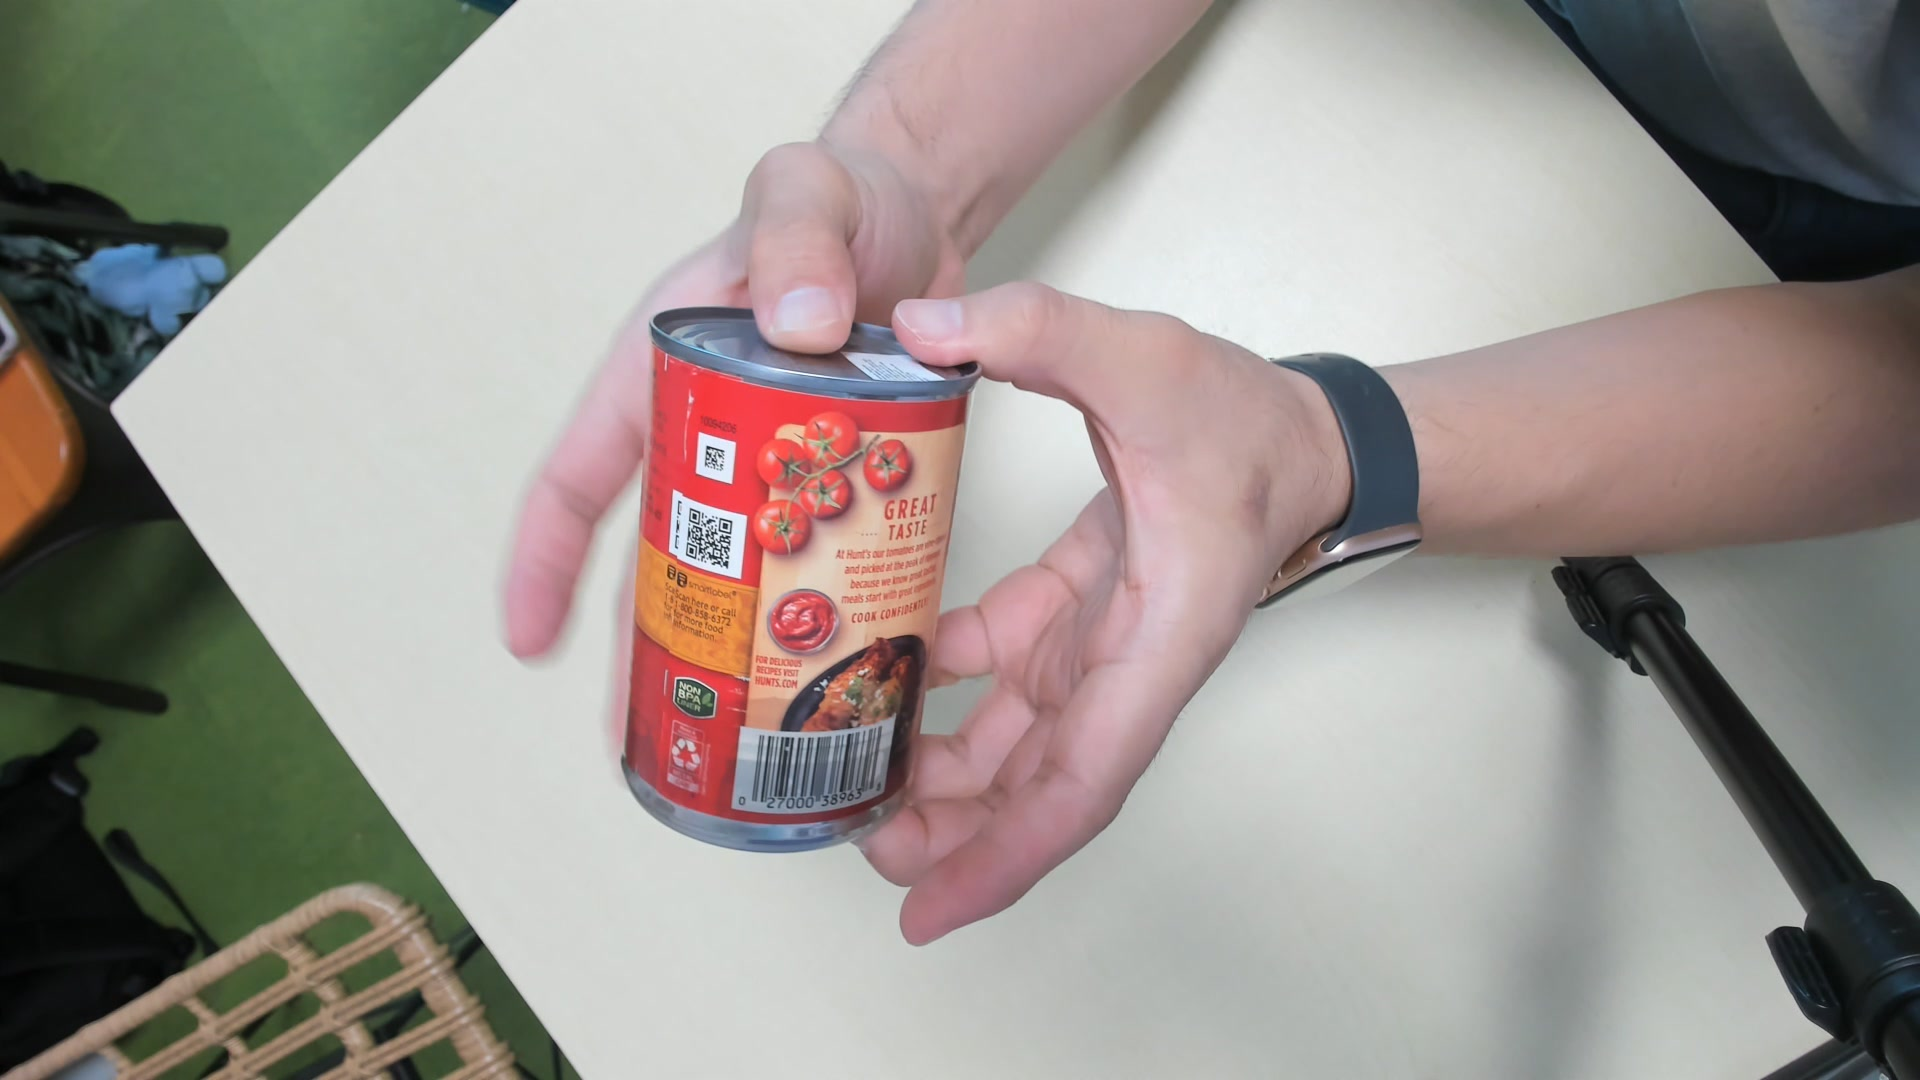OtherSauceDressing_300-399g_NonHalal_NonHealthy: (618, 315, 982, 869)
